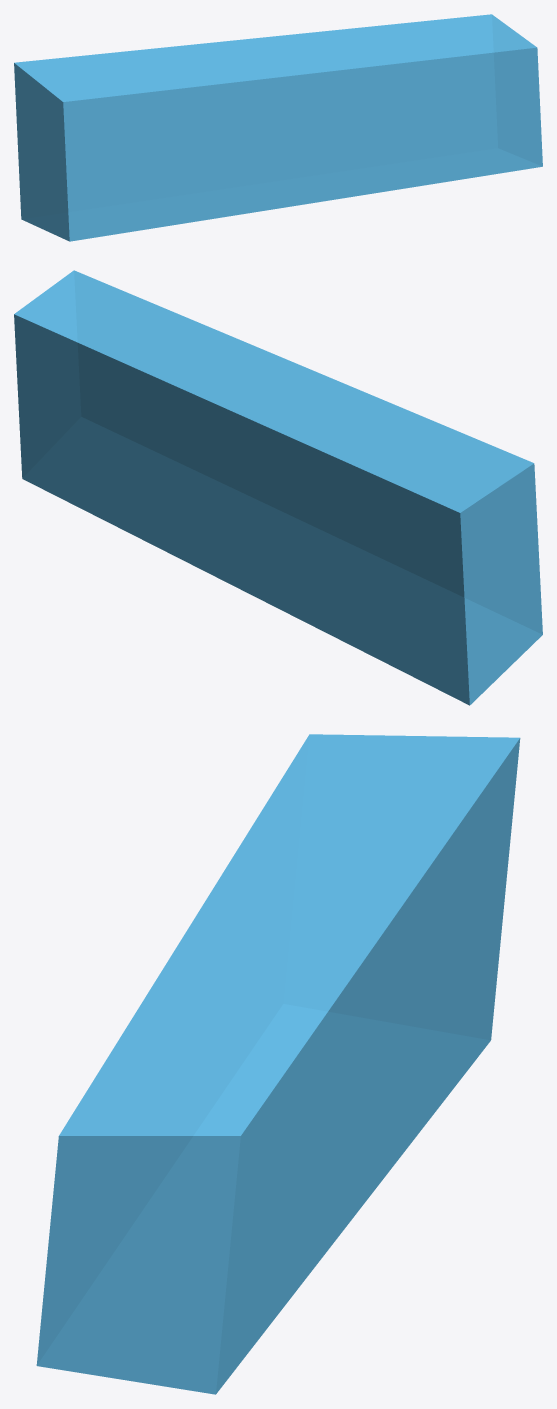
The model's file is Event_421556567_HErechit_12.fbx.
3 views of the same model, one above another, from view 1: azimuth 30°, elevation 25°; view 2: azimuth 150°, elevation 25°; view 3: azimuth 270°, elevation 25° (orthographic). The views are drawn at different scales.
Visible parts, largest first — view 1: Model; view 2: Model; view 3: Model.
Boxes of the visible parts, left/top/right/bottom form: Model: left=14, top=14, right=542, bottom=241; Model: left=14, top=270, right=542, bottom=705; Model: left=36, top=734, right=520, bottom=1394.
Bounding box in the file's own units: 1.74 × 0.6128 × 0.8874.
